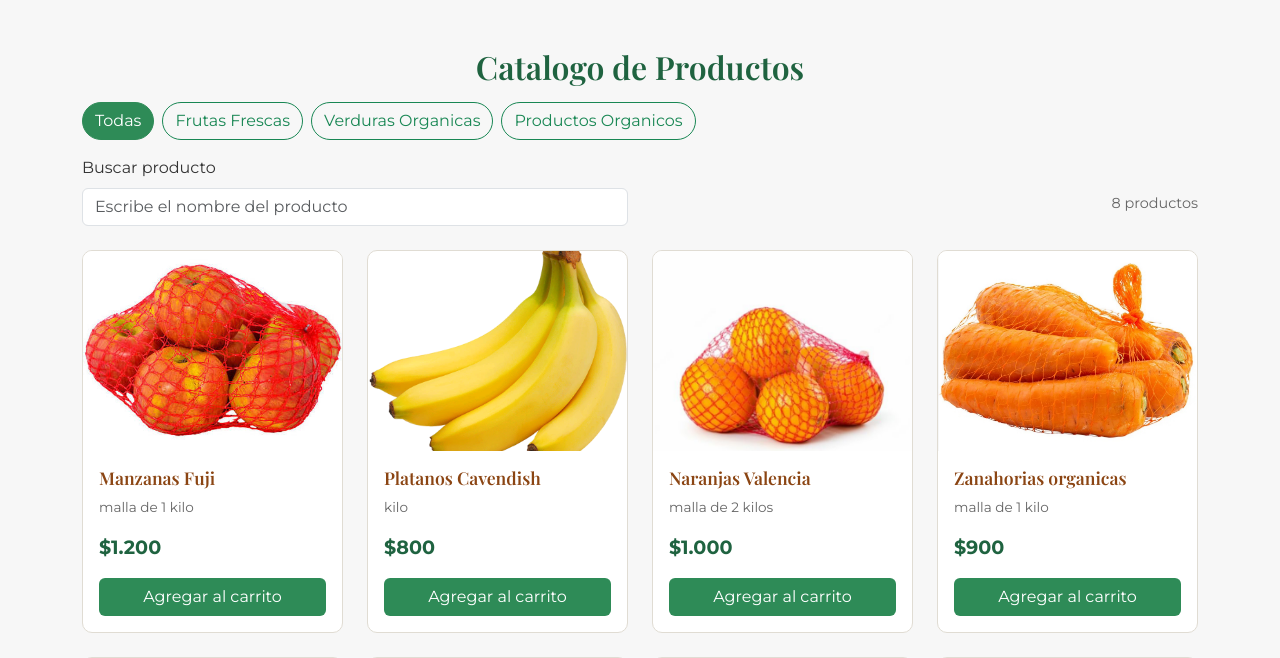
Test: Vista Catalogo › filtra por categoria
Click the button "Frutas Frescas" at (233, 121), box [162,102,303,140]
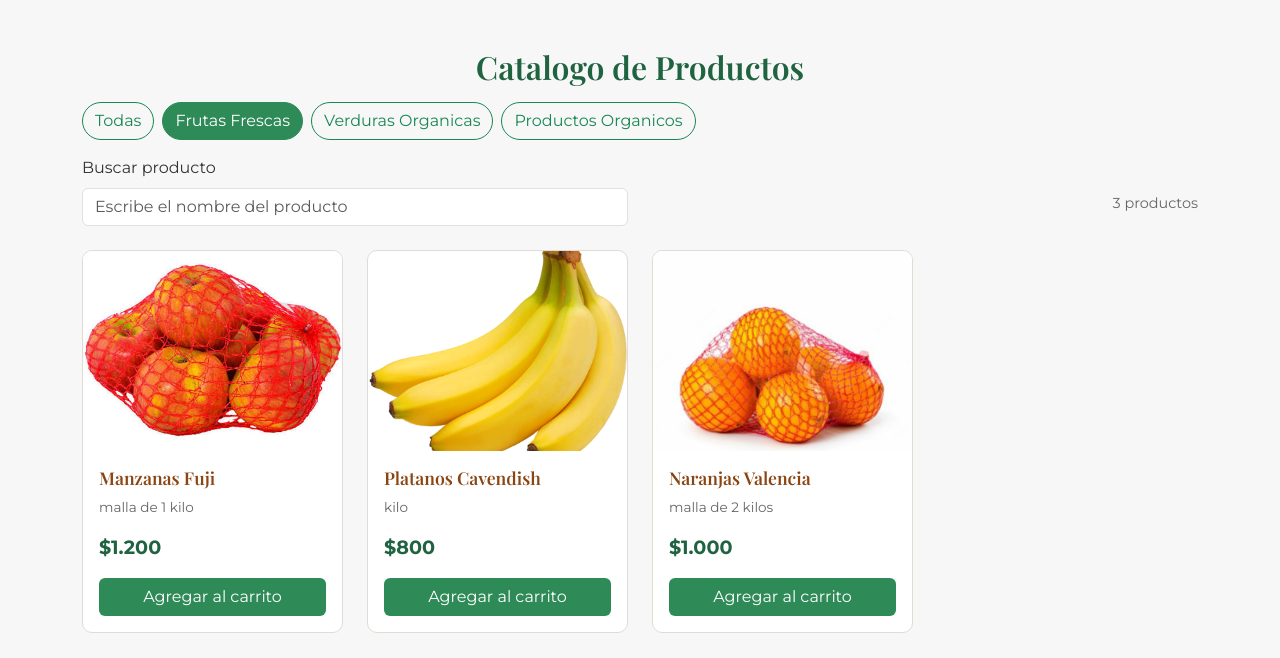
Expected: the heading "Manzanas Fuji" is shown, [99,466,215,489]
Now the text "3 productos" is shown, box [1112,194,1198,212]
